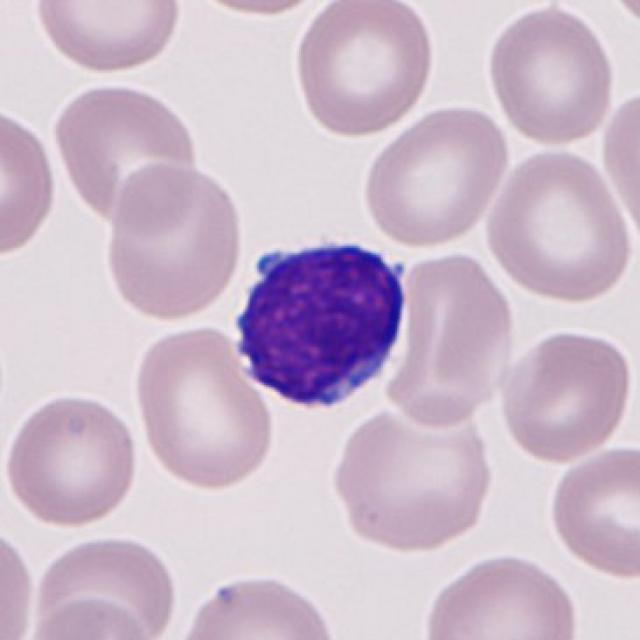Lymphocyte: (224, 226, 418, 417)
RBC: (327, 397, 497, 555), (131, 321, 278, 494), (481, 144, 636, 305), (385, 246, 521, 427), (101, 160, 246, 322), (358, 100, 512, 250), (49, 78, 199, 229), (0, 387, 143, 531), (290, 0, 437, 140), (483, 2, 619, 147), (495, 326, 636, 465), (26, 529, 182, 640), (418, 548, 584, 640), (546, 442, 638, 581), (170, 567, 341, 640), (29, 0, 185, 76), (0, 102, 63, 264), (109, 158, 200, 241), (598, 83, 640, 243), (19, 593, 158, 640), (0, 522, 38, 638), (175, 0, 339, 19), (600, 0, 640, 36)
